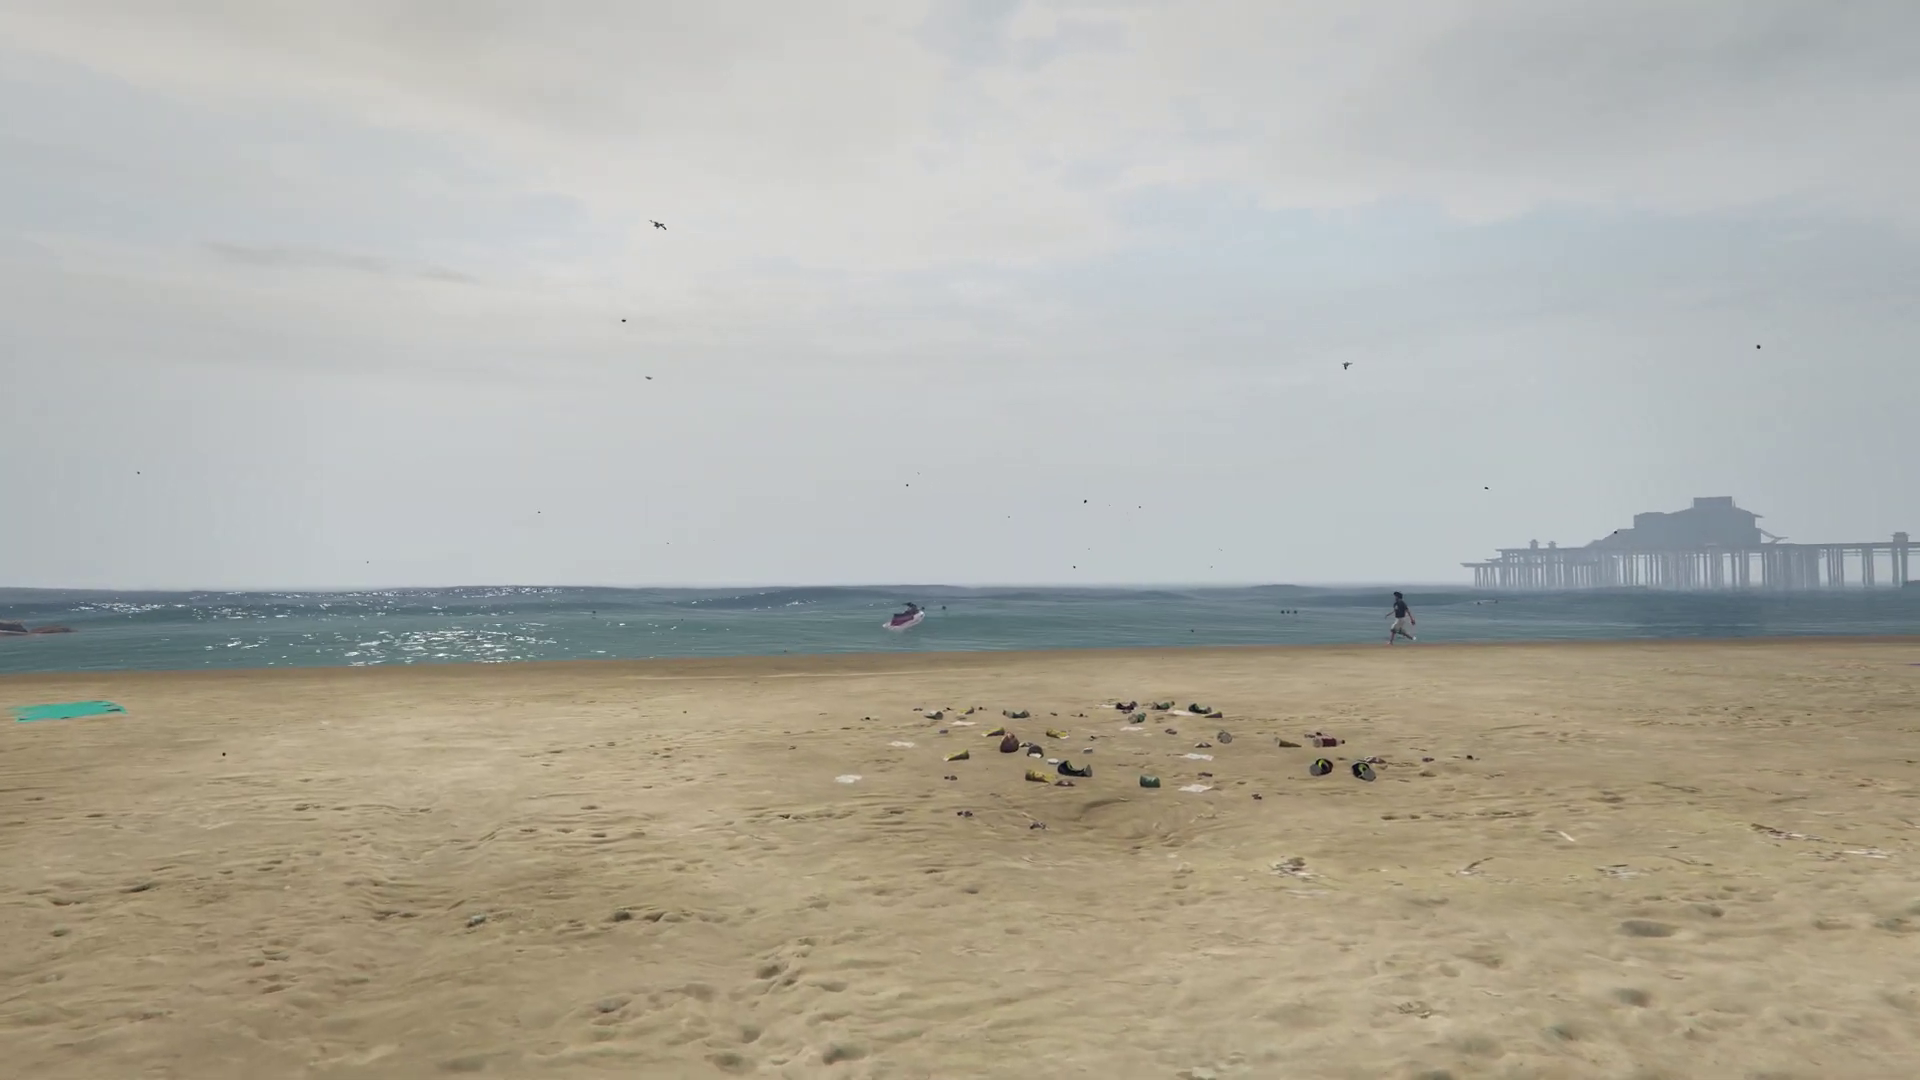person: (1385, 591, 1417, 646)
